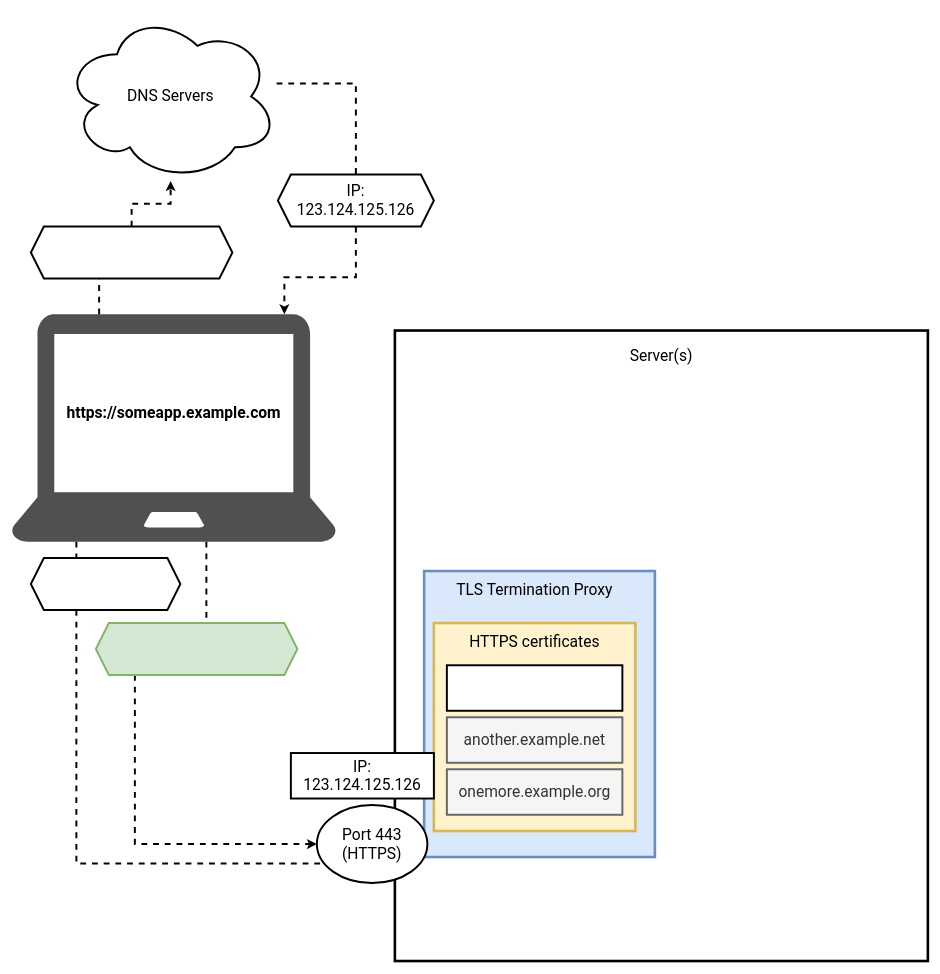
Some shapes in this 940 by 974 pixel diagram are drawn without their labels. The shapes that lost their labels are listed below. From the top down, each one's centre as x and y in pixels, then its label:
At pixel 131 252: "Who is: someapp.example.com".
At pixel 105 584: "TLS Handshake".
At pixel 196 649: "Encrypted request for: someapp.example.com".
At pixel 534 687: "someapp.example.com".
